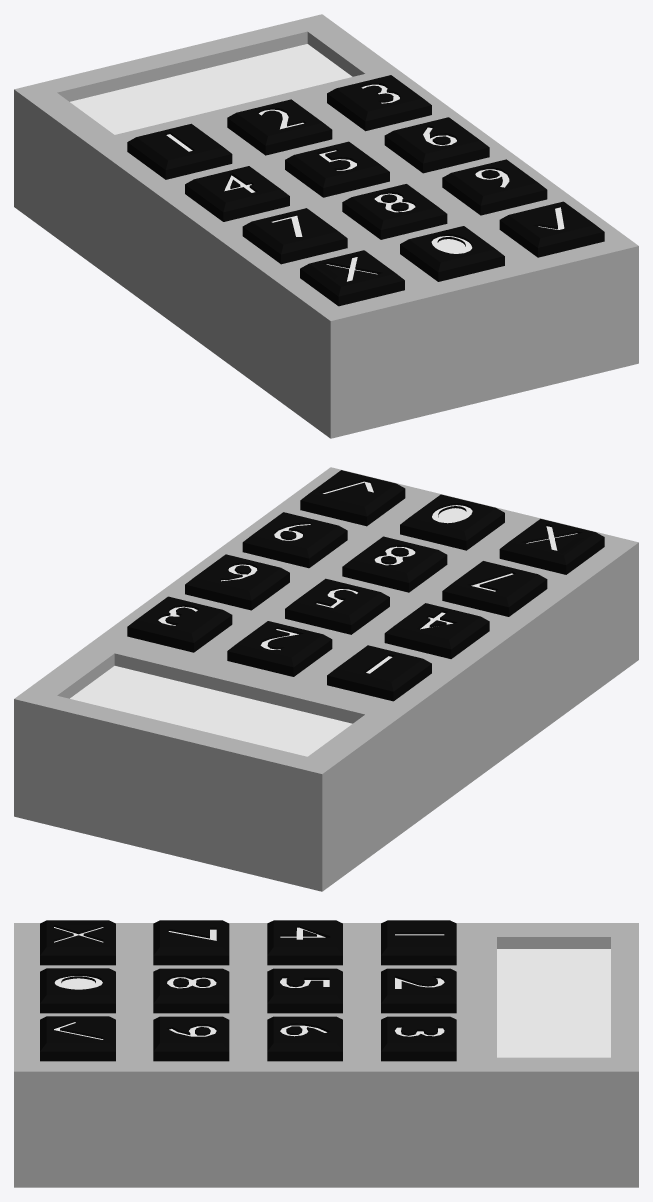
The model's file is Code_apparaatFinal.fbx.
3 renders of one model, top to bottom at view 1: azimuth 30°, elevation 25°; view 2: azimuth 150°, elevation 25°; view 3: azimuth 270°, elevation 25°, orthographic.
Parts seen in each view (by area): view 1: Code apparaat, Cube; view 2: Code apparaat, Cube; view 3: Code apparaat, Cube.
Boxes of the visible parts, bbox=[...] form: Code apparaat: bbox=[14, 14, 638, 438]; Cube: bbox=[127, 75, 604, 306]; Code apparaat: bbox=[14, 467, 638, 891]; Cube: bbox=[127, 470, 604, 701]; Code apparaat: bbox=[14, 923, 638, 1187]; Cube: bbox=[40, 920, 456, 1061].
Bounding box in the file's own units: 16.42 × 6.79 × 29.22.
Materials: 1 (1 with a texture image).
